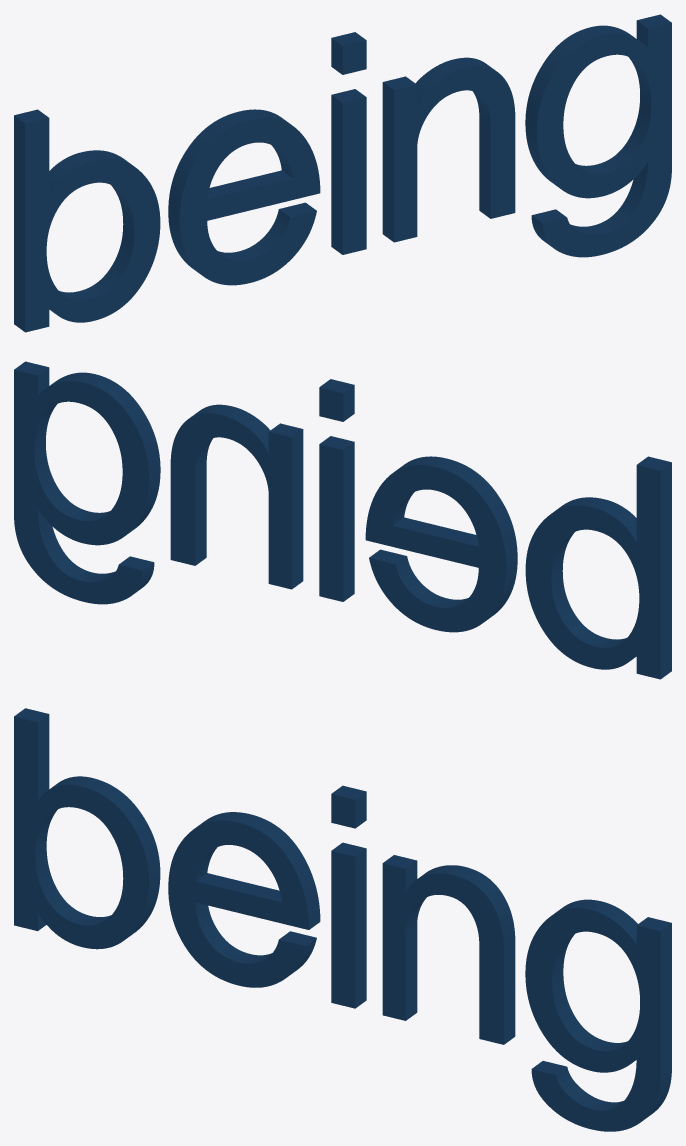
Rendered from being.gltf.
3 renders of one model, top to bottom at view 1: azimuth 30°, elevation 25°; view 2: azimuth 150°, elevation 25°; view 3: azimuth 330°, elevation 25°, orthographic.
Size of the model in its own units: 3.28 by 1.32 by 0.1.
